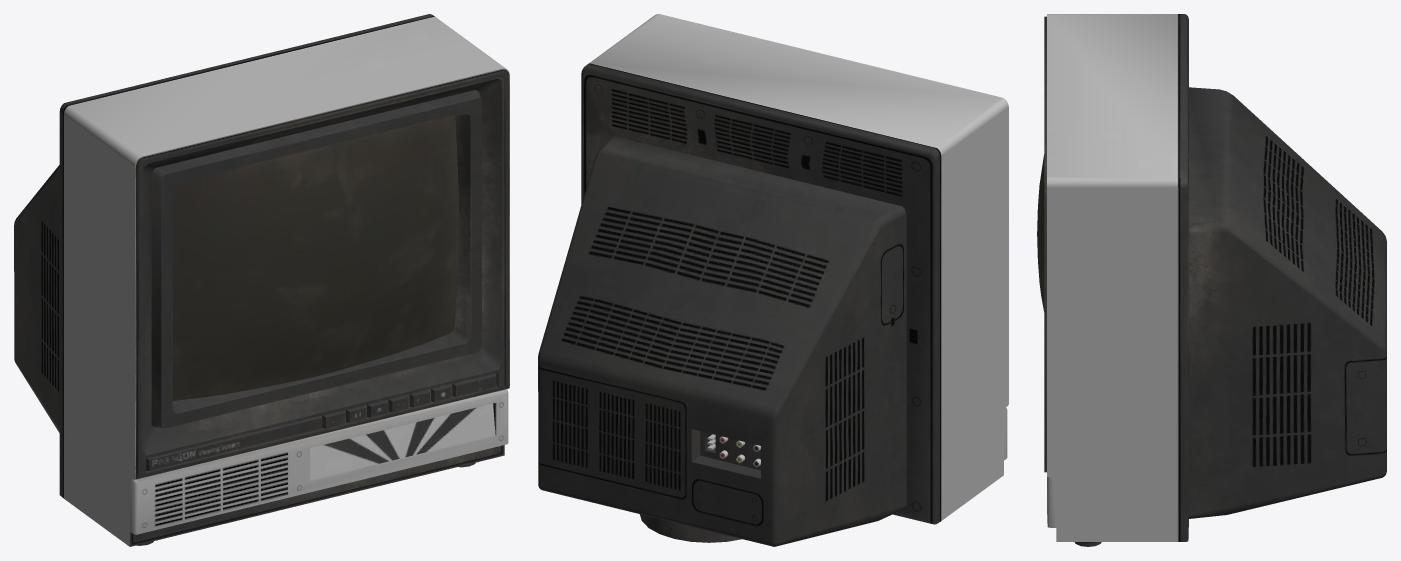
File: television_b.glb
3 views of the same model, side by side, from view 1: azimuth 30°, elevation 25°; view 2: azimuth 150°, elevation 25°; view 3: azimuth 270°, elevation 25° (orthographic). The views are drawn at different scales.
Parts seen in each view (by area): view 1: television_02; view 2: television_02; view 3: television_02.
Boxes of the visible parts, left/top/right/bottom form: television_02: left=14, top=14, right=509, bottom=546; television_02: left=538, top=14, right=1008, bottom=546; television_02: left=1037, top=14, right=1386, bottom=546.
Bounding box in the file's own units: 0.3998 × 0.4114 × 0.3502.
1 material, 1 textured.
